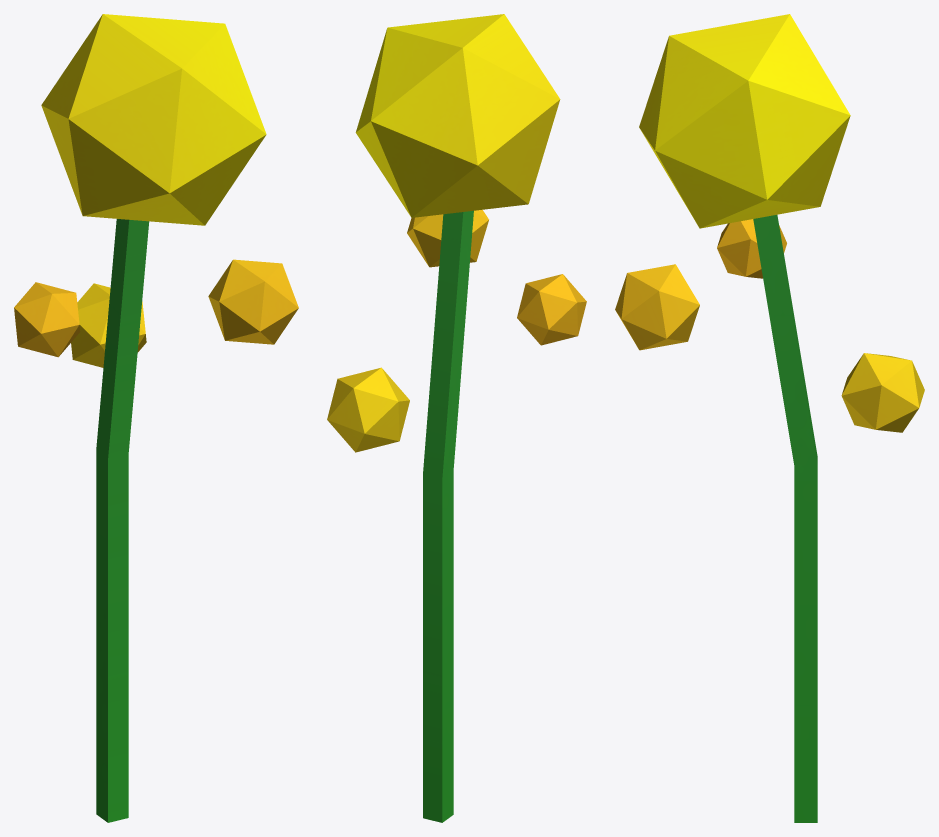
File: Flower_Rape.fbx
3 renders of one model, left to right at view 1: azimuth 30°, elevation 25°; view 2: azimuth 150°, elevation 25°; view 3: azimuth 270°, elevation 25°, orthographic. The views are drawn at different scales.
Parts seen in each view (by area): view 1: Flower_Rape; view 2: Flower_Rape; view 3: Flower_Rape.
Boxes of the visible parts, left/top/right/bottom form: Flower_Rape: left=14, top=14, right=298, bottom=822; Flower_Rape: left=327, top=14, right=586, bottom=822; Flower_Rape: left=615, top=14, right=924, bottom=822.
Bounding box in the file's own units: 25.45 × 85.93 × 30.34.
Materials: 1 (1 with a texture image).
